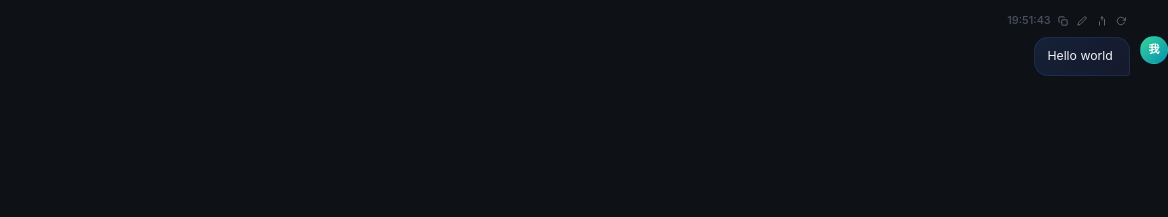
Test: MessageBubble › enters edit mode on edit click and shows textarea
Click the button named "Edit": [1082, 21] box [1075, 14, 1089, 28]
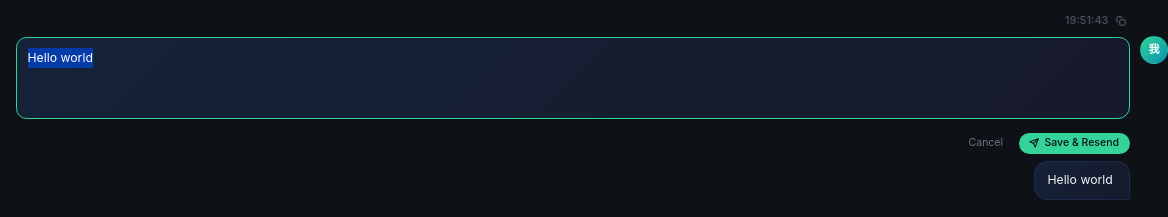
Expected: the text box holds "Hello world", [16, 37, 1130, 119]
Expected: the text "Cancel" is shown, [960, 133, 1012, 154]
Expected: the text "Save" is shown, [1019, 133, 1130, 154]
